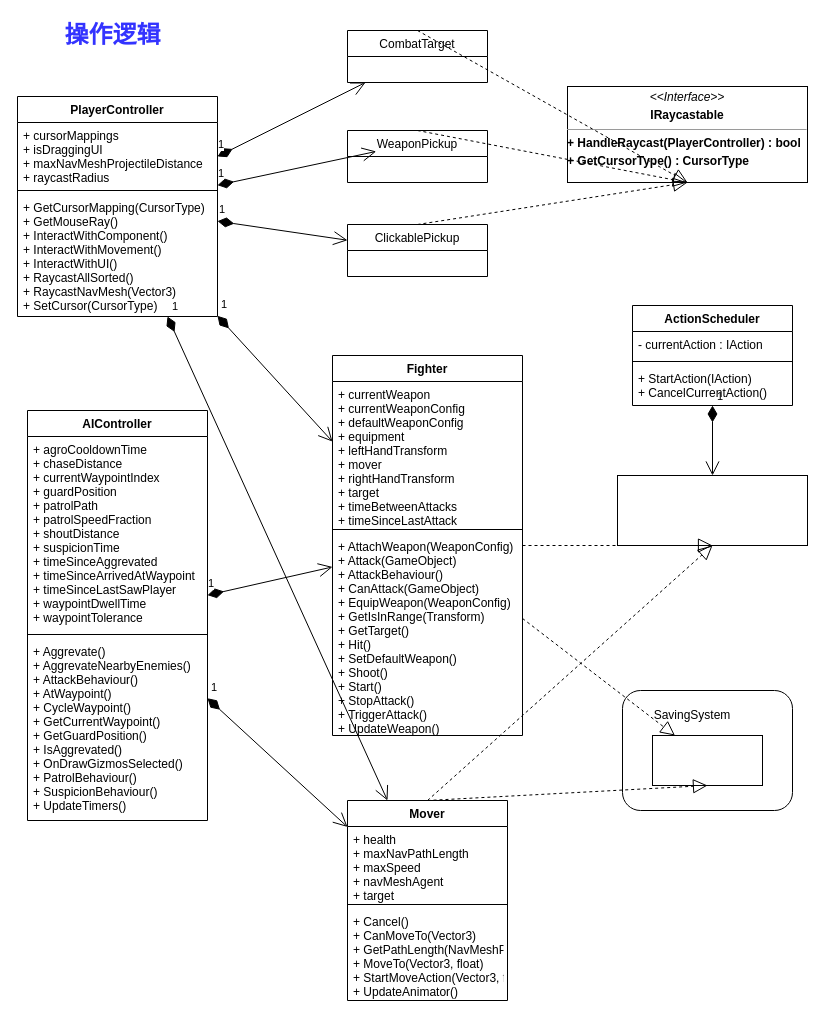
This 825x1021 diagram has some shape labels left out. The shapes that lost their labels are listed below. From the top down, each one's centre as x and y in pixels, then its label:
the point at 712,510: <<Interface>> IAction + Cancel();
the point at 707,760: Â«interfaceÂ» ISaveable
